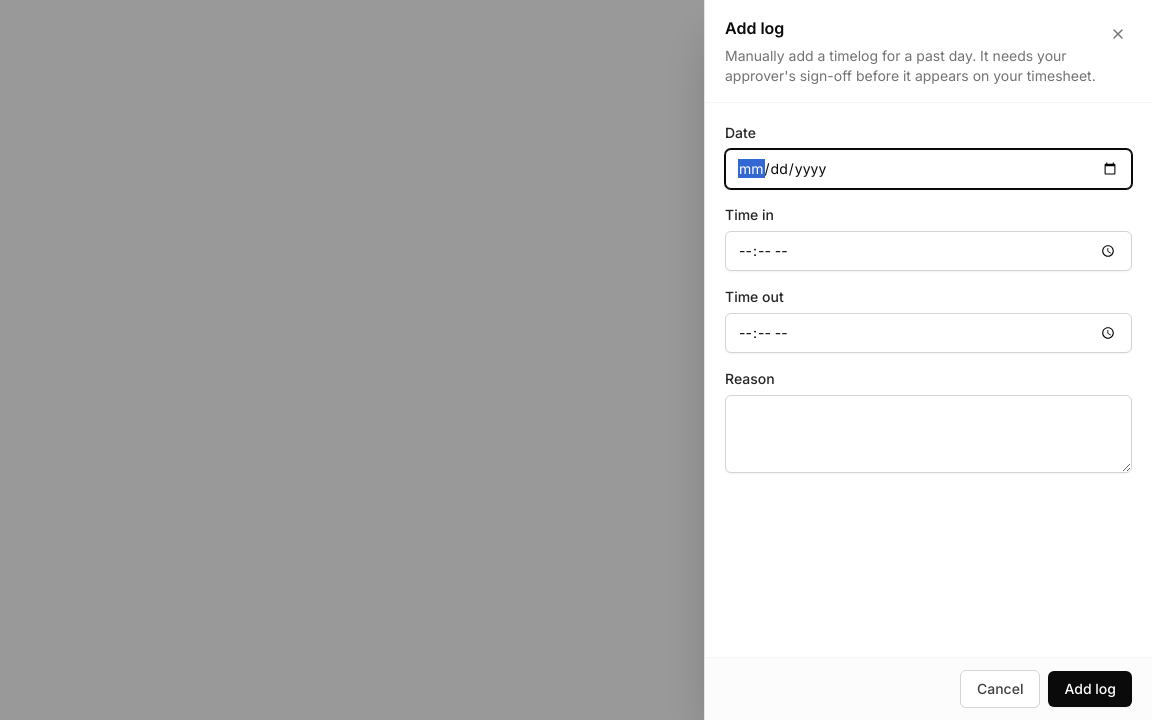
Test: AddLogDrawer › requires time-out after time-in
Type "2020-01-01" into the date field labelled "Date" at (928, 169), box top-left (725, 149), bottom-right (1132, 189)
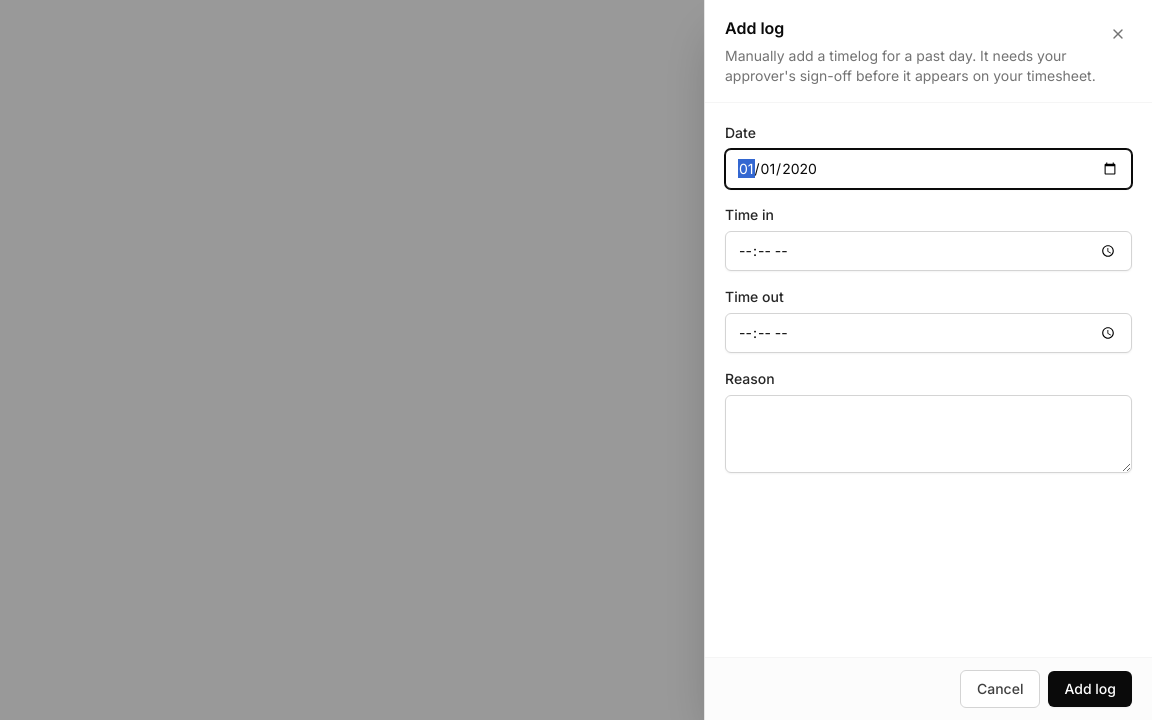
Type "18:00" into the time field labelled "Time in" at (928, 251), box top-left (725, 231), bottom-right (1132, 271)
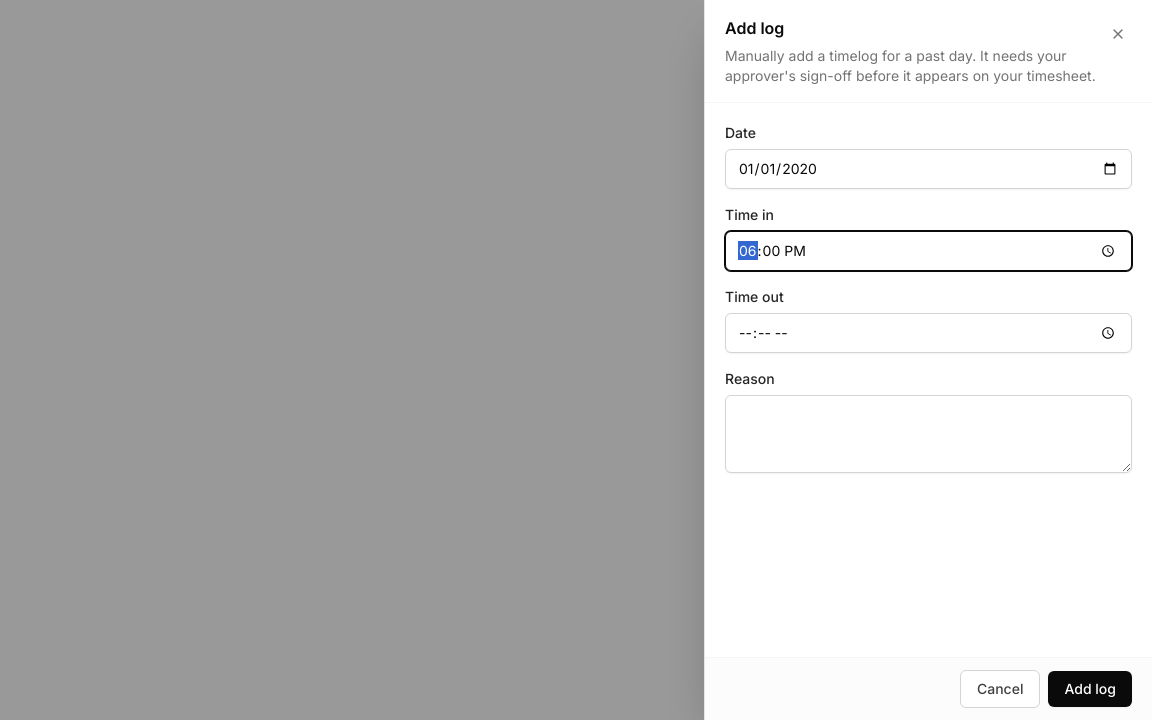
Type "09:00" into the time field labelled "Time out" at (928, 333), box top-left (725, 313), bottom-right (1132, 353)
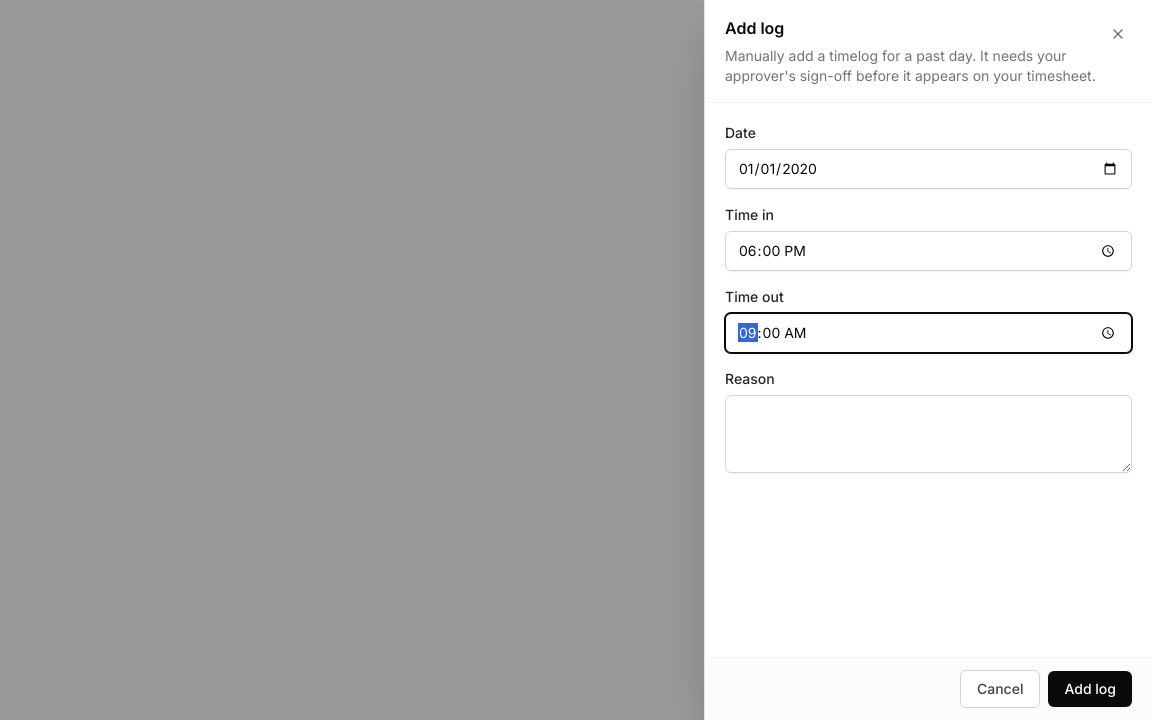
Type "bad" into the text box labelled "Reason" at (928, 434), box top-left (725, 395), bottom-right (1132, 473)
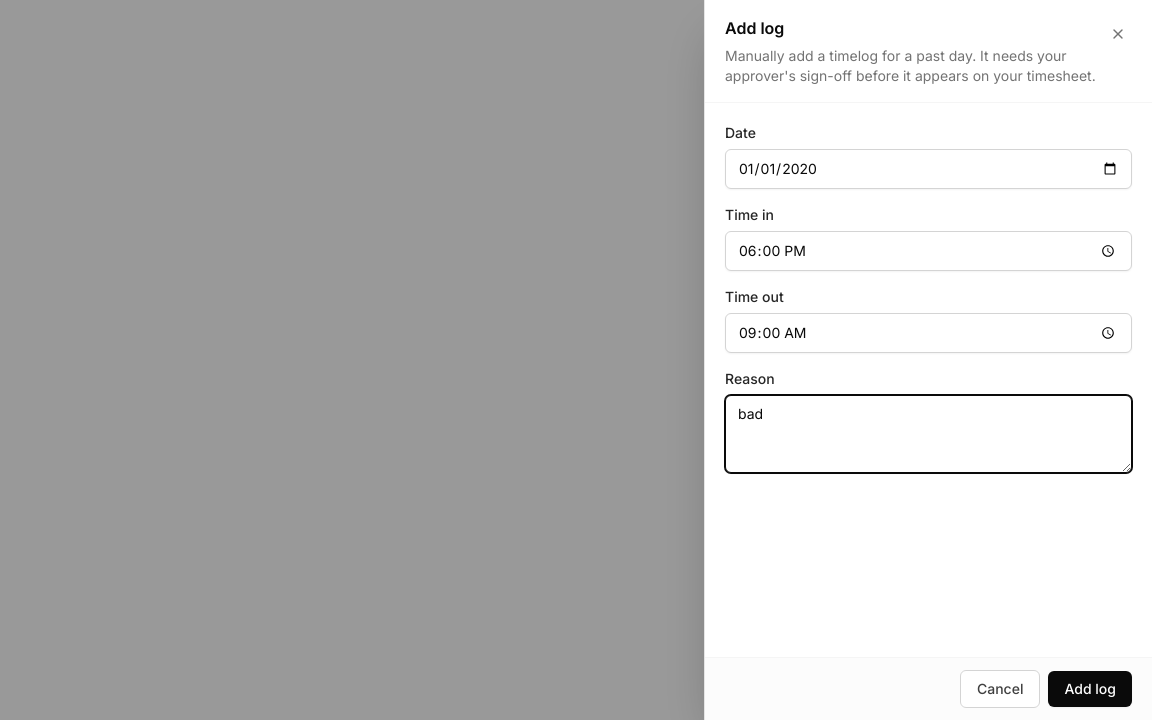
Click the button "Add log" at (1090, 689), box top-left (1048, 671), bottom-right (1132, 707)
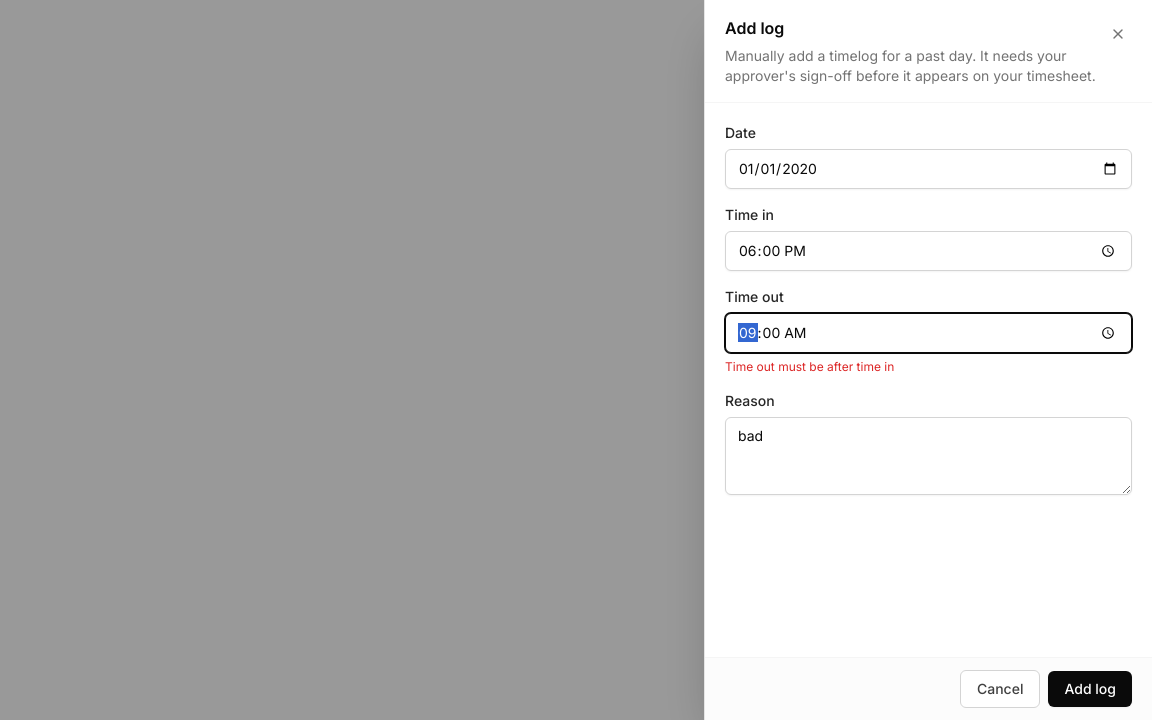
Result: the text "Time out must be after time in" is shown at top-left (725, 359), bottom-right (894, 374)
